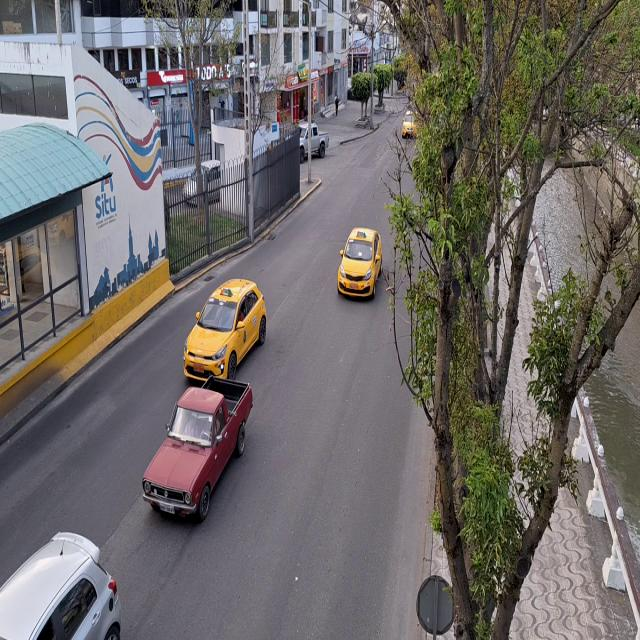CMT: (142, 376, 252, 526)
SED: (186, 282, 264, 378), (337, 223, 383, 307)
